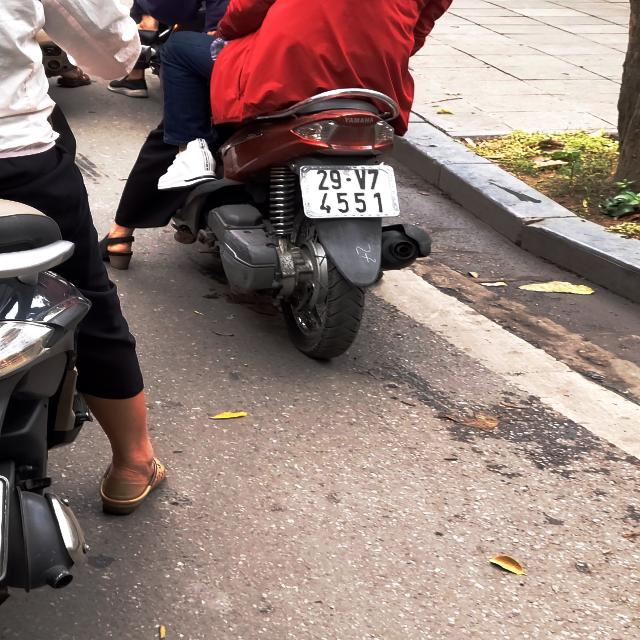license_plate: (300, 164, 406, 218)
